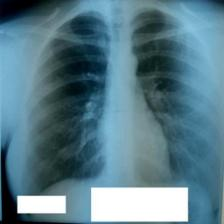tuberculosis: (17, 6, 222, 198)
